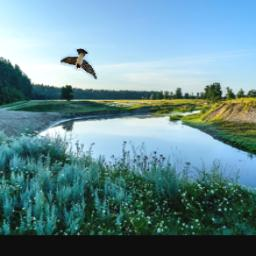Swallow: (61, 49, 98, 80)
